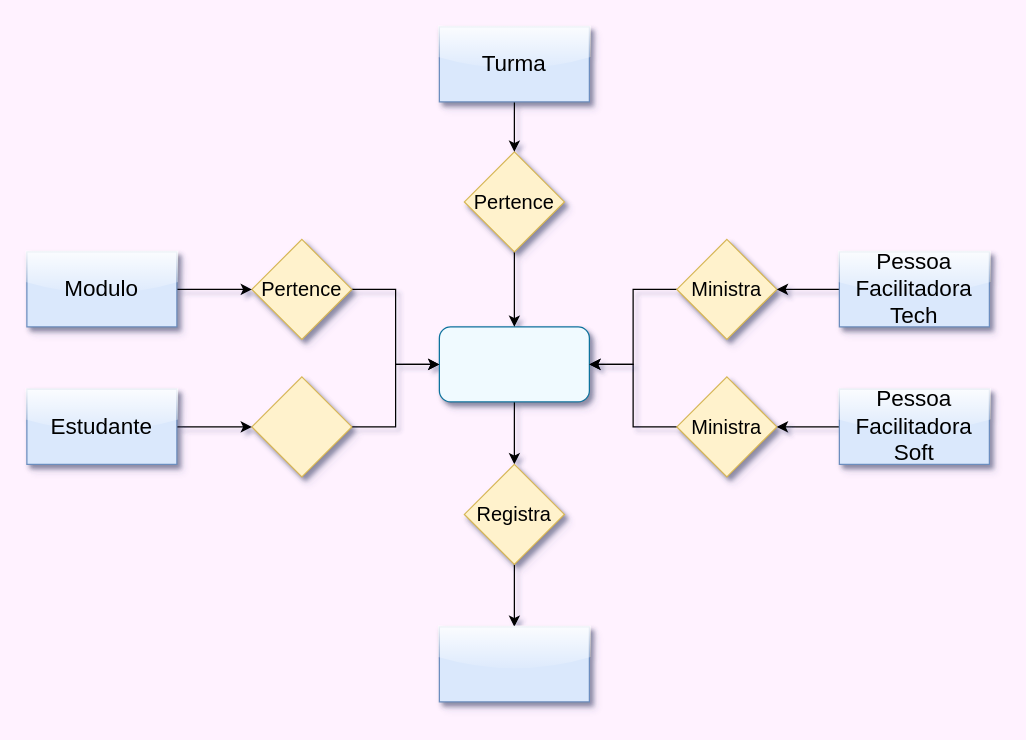
The diagram is 1026 pixels wide and 740 high, and some of its shapes have lost their labels. Each missing label, with the centre of its shape:
"Curso" goes at [515,366].
"Estuda" goes at [302,428].
"Log de Sistema" goes at [515,666].
